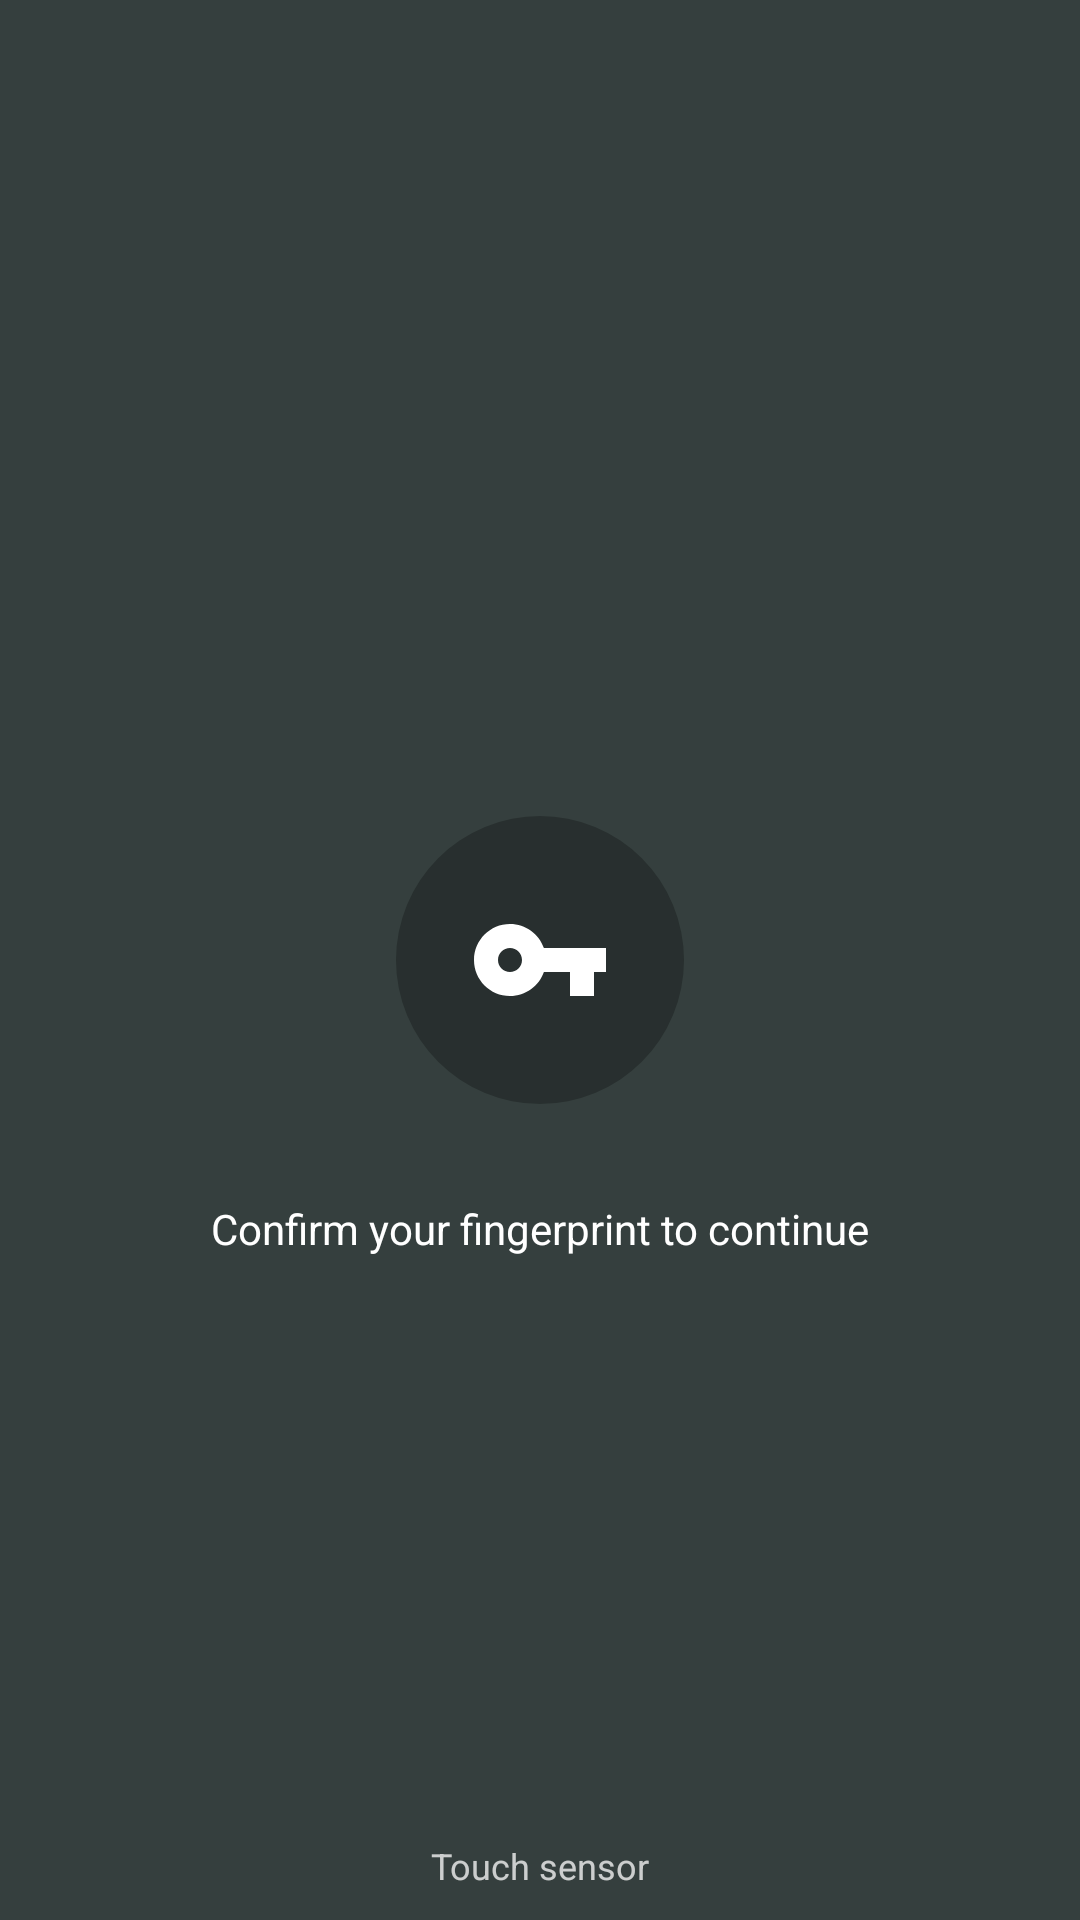

Icon click points for this 1080*1920 phone screenshot, format point (x, y):
key: point (540, 960)
